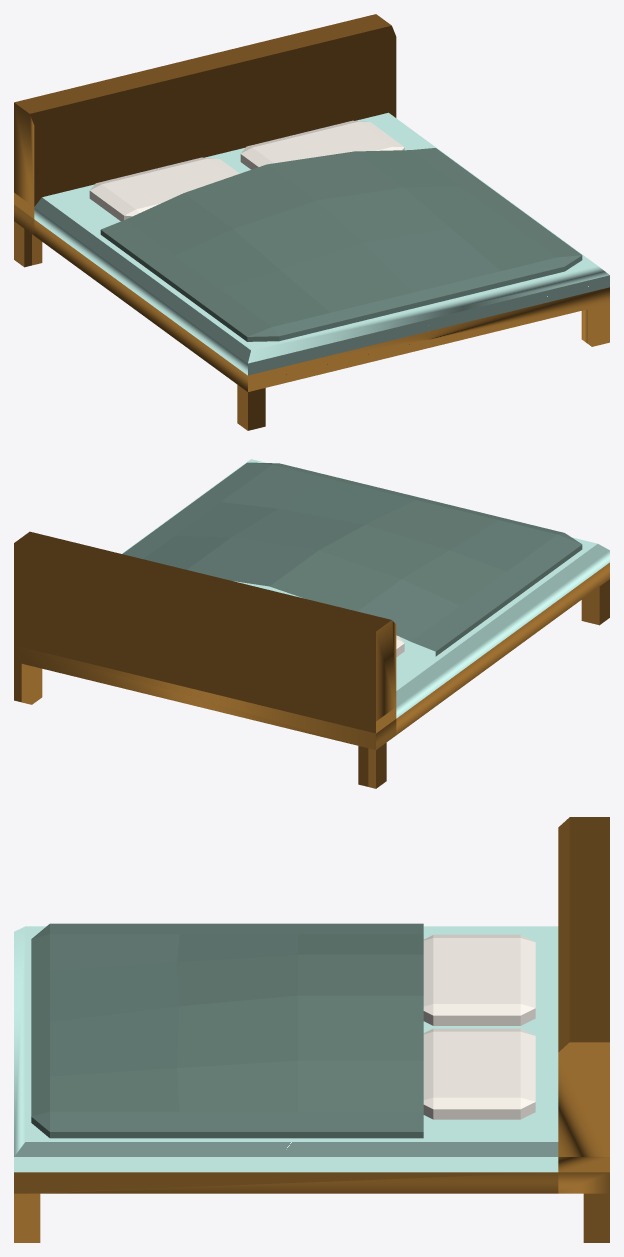
Rendered from Twinbed_v02.fbx.
3 renders of one model, top to bottom at view 1: azimuth 30°, elevation 25°; view 2: azimuth 150°, elevation 25°; view 3: azimuth 270°, elevation 25°, orthographic. The views are drawn at different scales.
Visible parts, largest first — view 1: bed_frame, covers, Pillow_01_1, Pillow_01; view 2: bed_frame, covers; view 3: covers, bed_frame, Pillow_01, Pillow_01_1.
Boxes of the visible parts, <box> form: bed_frame: <box>14,14,609,430</box>; covers: <box>100,148,582,341</box>; Pillow_01_1: <box>89,157,239,221</box>; Pillow_01: <box>240,120,404,169</box>; bed_frame: <box>14,459,609,788</box>; covers: <box>122,462,582,656</box>; covers: <box>31,923,423,1138</box>; bed_frame: <box>14,817,609,1242</box>; Pillow_01: <box>423,1028,535,1119</box>; Pillow_01_1: <box>423,934,535,1025</box>.
Size of the model in its own units: 264 by 110 by 296.
